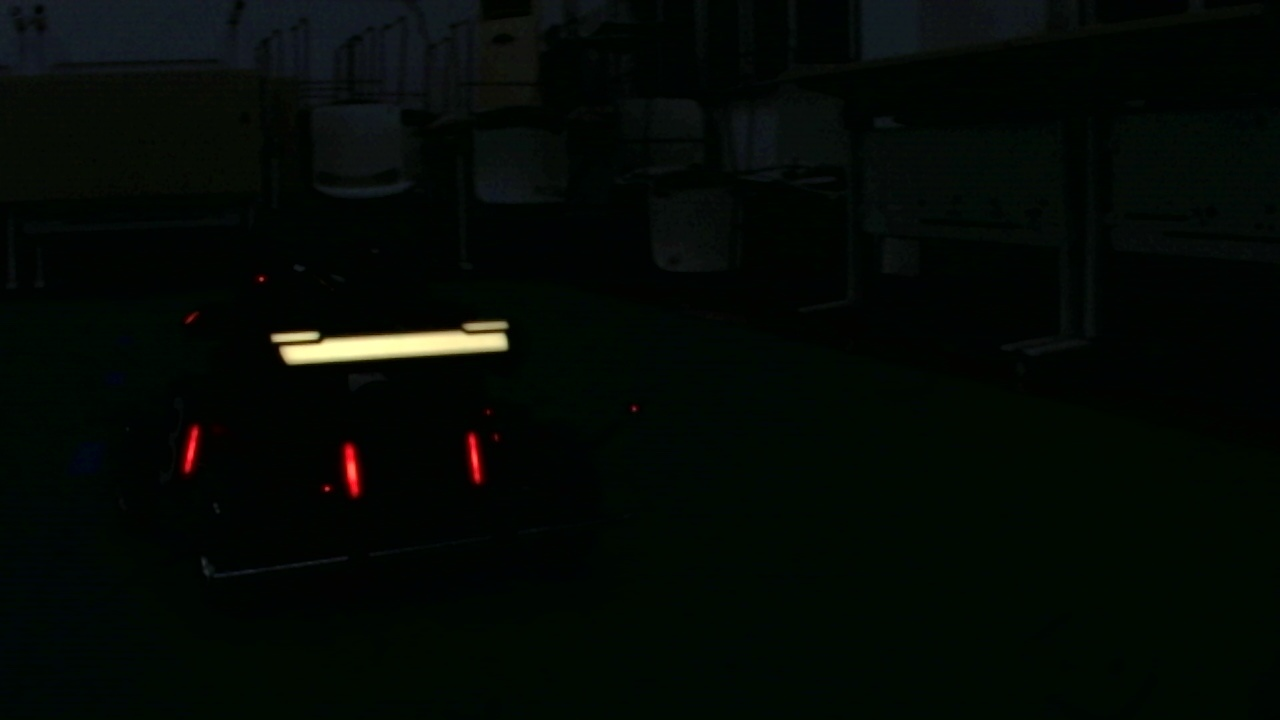lamp: (337, 434, 367, 499), (175, 416, 201, 477), (463, 423, 485, 487)
notpair1: (177, 421, 366, 498)
pair1: (343, 429, 484, 499)
